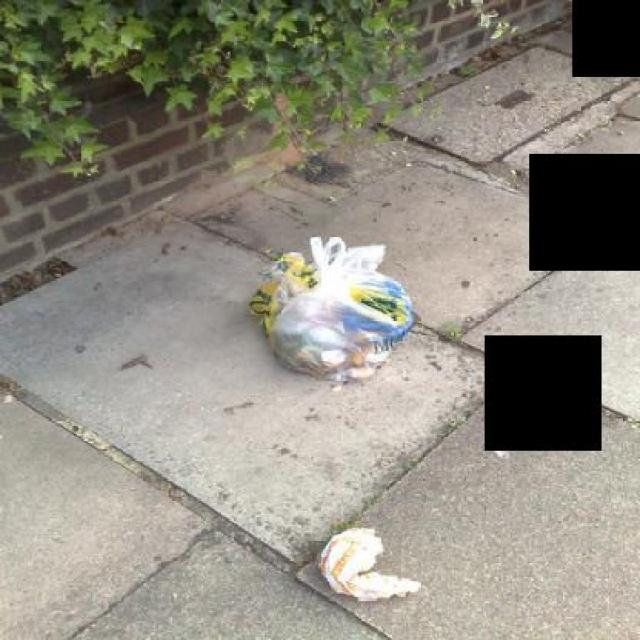plastic bag: (243, 234, 414, 380), (310, 523, 422, 600)
